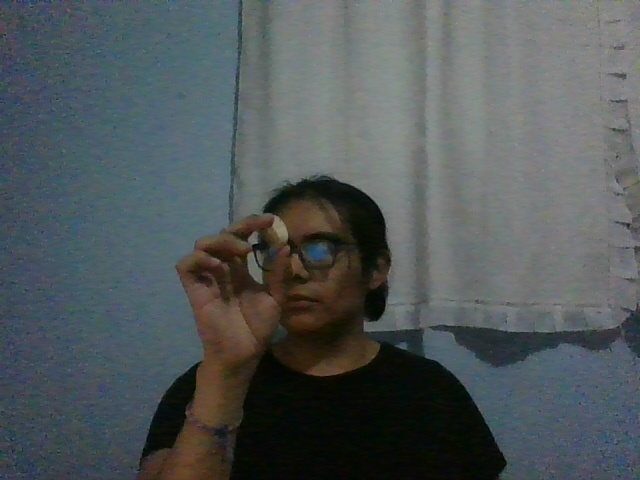goma: (259, 215, 289, 248)
